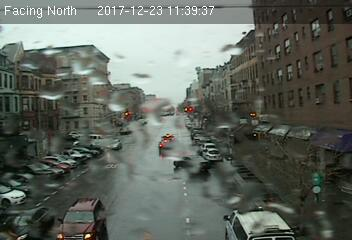car: (57, 195, 105, 240), (174, 153, 211, 171), (204, 148, 222, 160), (159, 138, 175, 150)
police: (223, 208, 297, 240)
